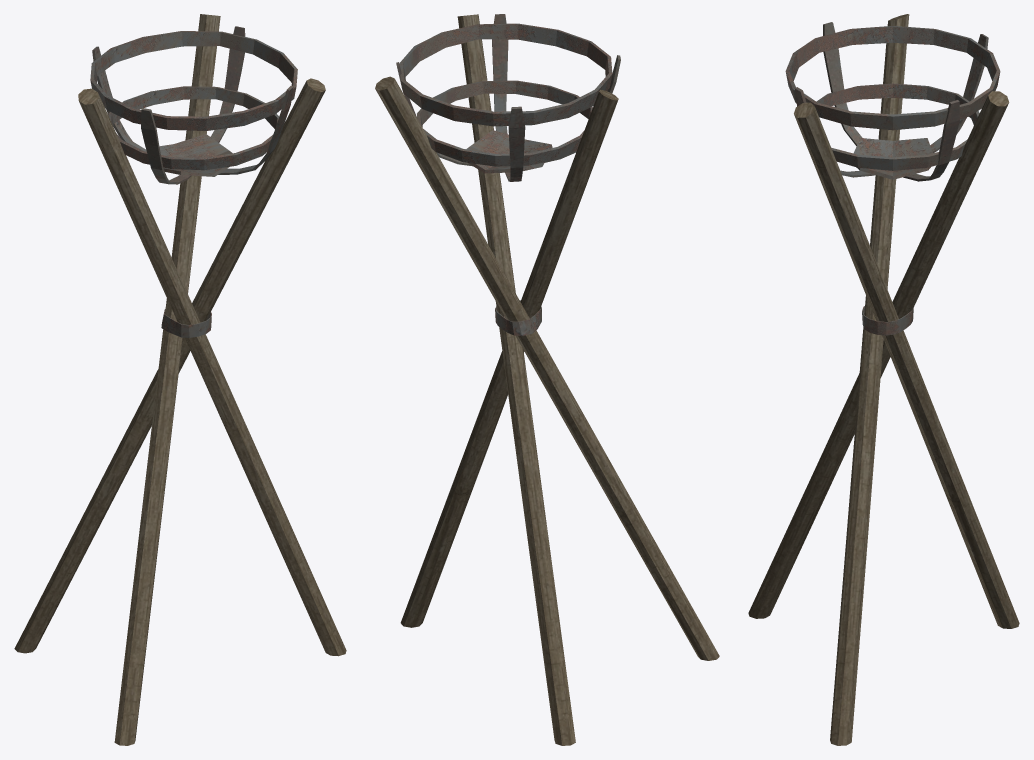
Rendered from SoporteAntorcha2.fbx.
The picture shows the model from 3 angles, left to right: view 1: azimuth 30°, elevation 25°; view 2: azimuth 150°, elevation 25°; view 3: azimuth 270°, elevation 25°; orthographic projection. The views are drawn at different scales.
Visible parts, largest first — view 1: Cube.001, Cube.002, Cube.003, Cube.004, Cube.005; view 2: Cube.001, Cube.003, Cube.004, Cube.002, Cube.005; view 3: Cube.001, Cube.002, Cube.004, Cube.003, Cube.005.
Boxes of the visible parts, x1,y1,x2,y2 form: Cube.001: (90, 26, 297, 184); Cube.002: (78, 88, 346, 656); Cube.003: (114, 14, 220, 745); Cube.004: (14, 78, 325, 653); Cube.005: (161, 309, 211, 337); Cube.001: (396, 14, 620, 181); Cube.003: (375, 76, 719, 660); Cube.004: (457, 14, 575, 745); Cube.002: (400, 89, 618, 627); Cube.005: (495, 300, 541, 335); Cube.001: (785, 22, 1000, 181); Cube.002: (830, 14, 909, 745); Cube.004: (794, 102, 1019, 628); Cube.003: (748, 91, 1009, 618); Cube.005: (862, 306, 913, 335).
Bounding box in the file's own units: 143 × 305 × 120.
